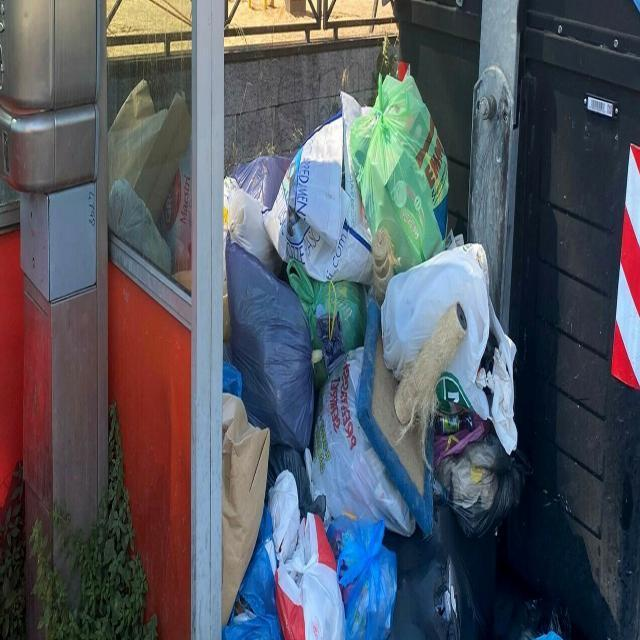Trashbag: (389, 428, 530, 640), (218, 246, 320, 444)
